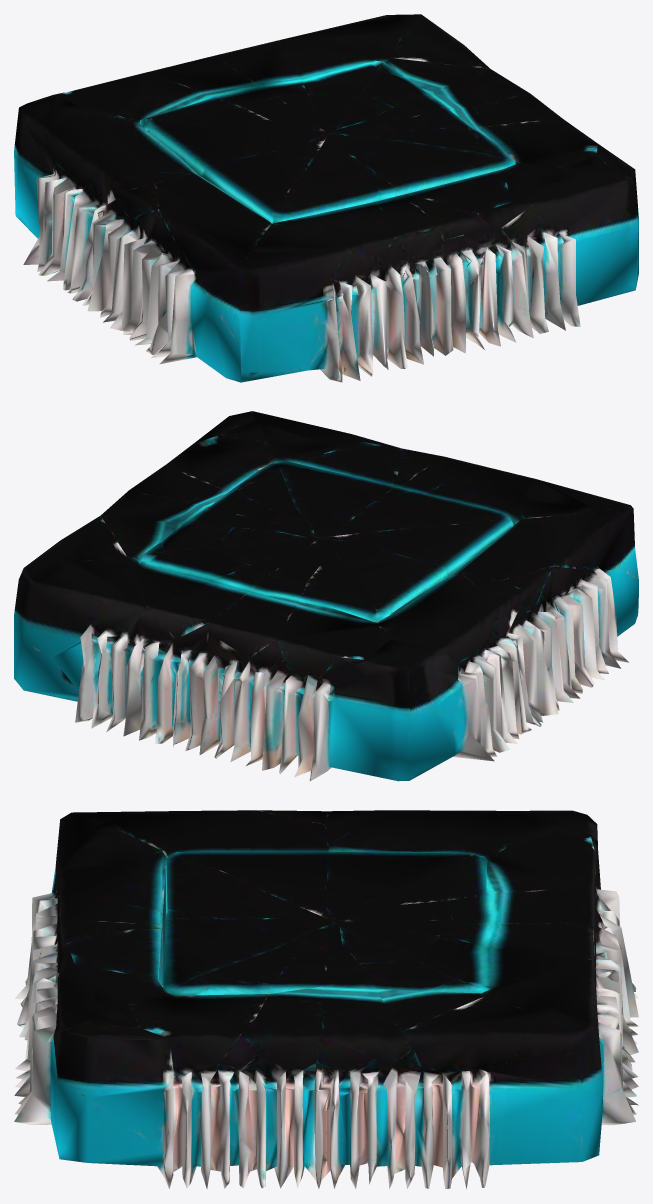
File: chip.min.glb
3 views of the same model, one above another, from view 1: azimuth 30°, elevation 25°; view 2: azimuth 150°, elevation 25°; view 3: azimuth 270°, elevation 25° (orthographic). The views are drawn at different scales.
Bounding box in the file's own units: 1.9 × 0.4703 × 1.88.
1 material, 1 textured.
